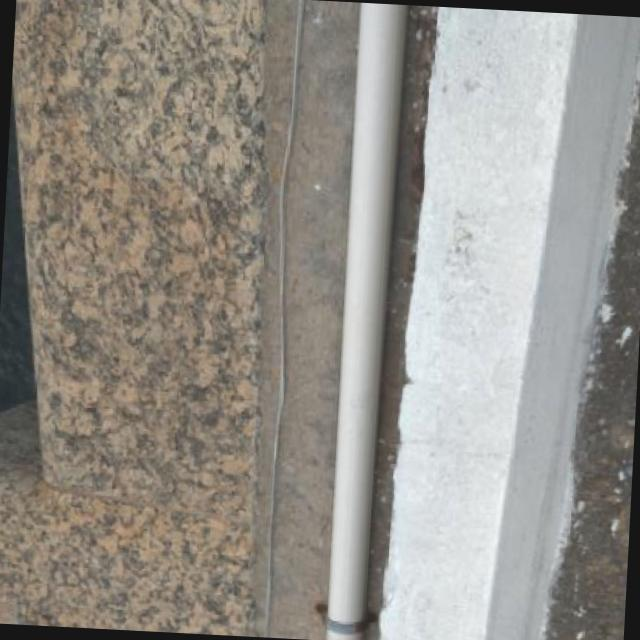gas: (317, 1, 414, 640)
